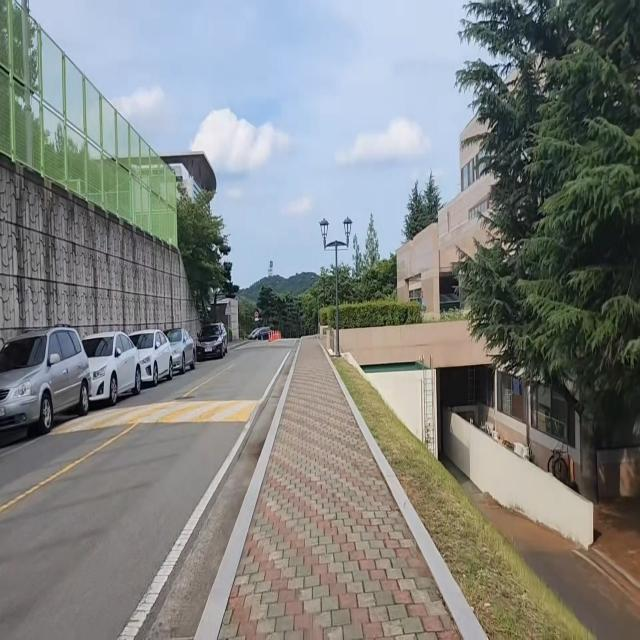road: (0, 341, 298, 640)
sidewalk: (199, 335, 488, 640)
